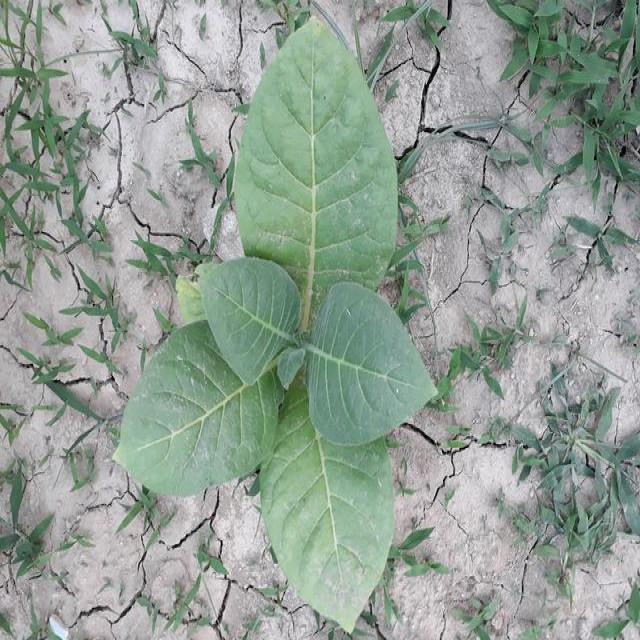crop: (104, 9, 442, 630)
